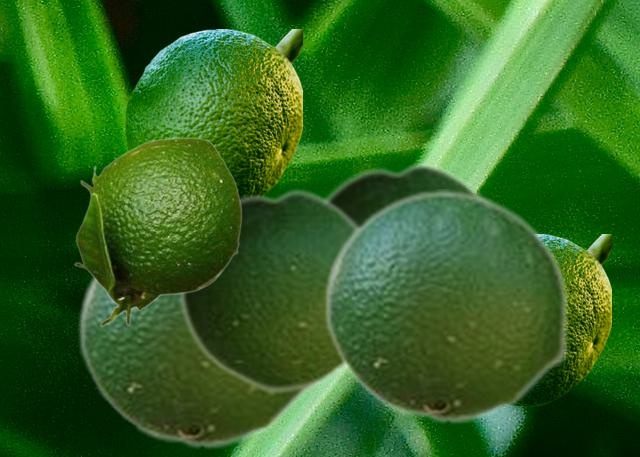dalandan: (323, 189, 569, 424), (77, 275, 321, 449), (178, 186, 359, 394), (73, 137, 241, 326), (125, 29, 301, 194), (518, 234, 610, 405), (324, 159, 490, 220)
